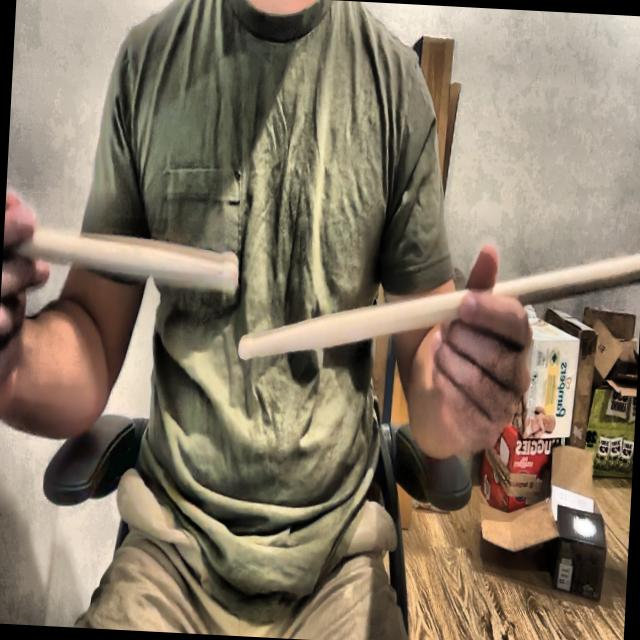Drumstick-Heads: (218, 238, 244, 299), (233, 324, 260, 368)
